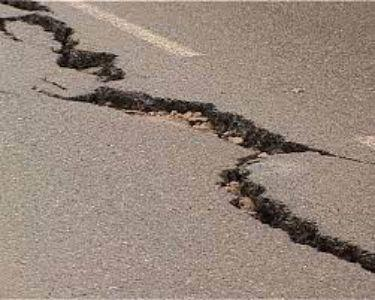crack: (217, 163, 370, 270), (101, 76, 276, 156), (9, 2, 128, 88)
pothole: (8, 0, 370, 277)
